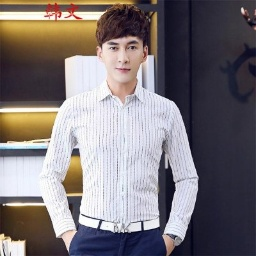face: (95, 5, 151, 82)
